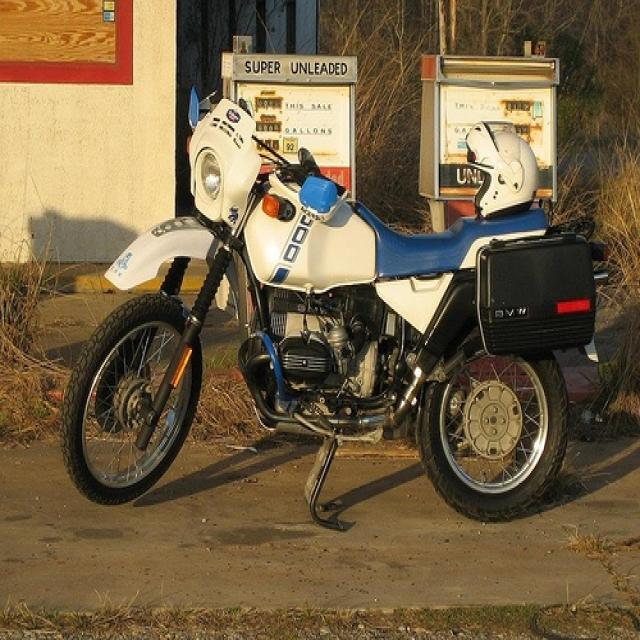motorbike: (57, 85, 604, 537)
